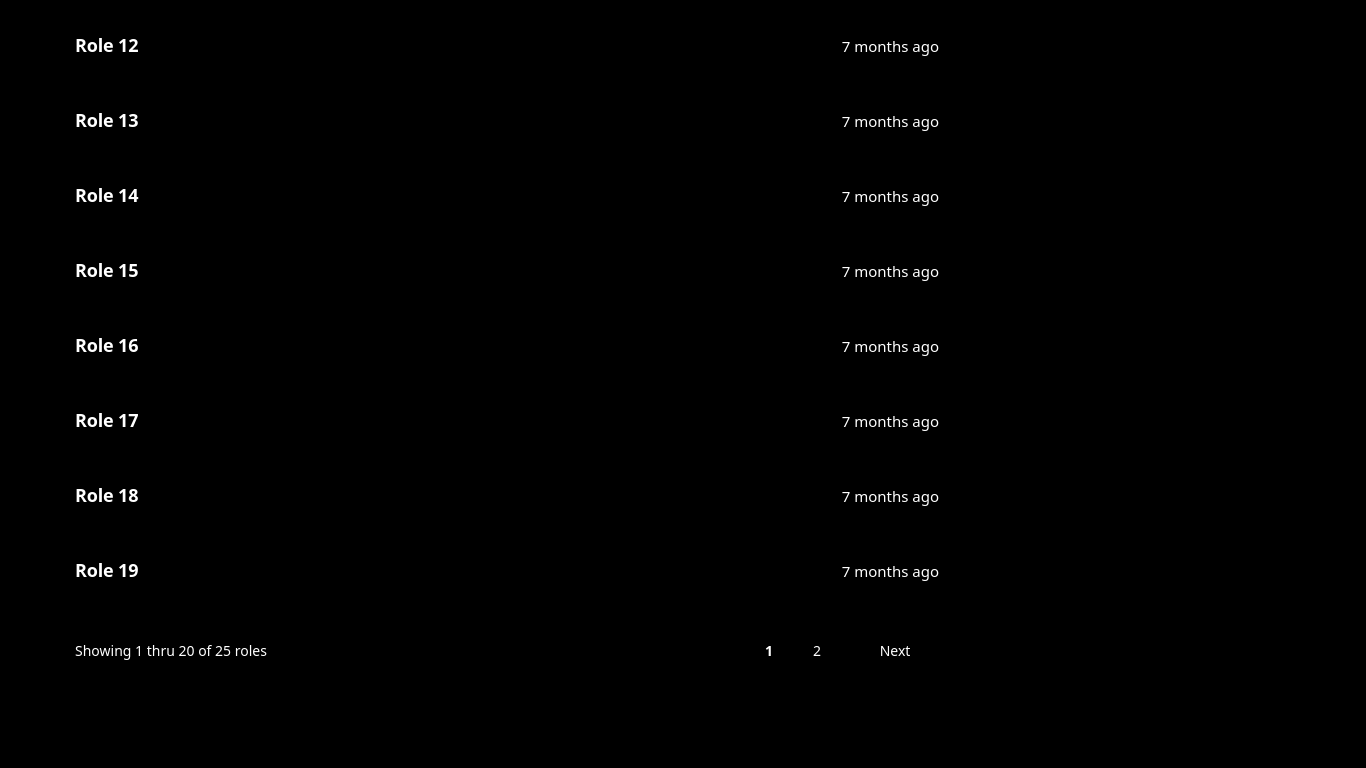
Test case: once the board is in memory › pages without a request, landing on the results heading
The image size is (1366, 768).
(page scrolled)
Click the link "2" at [817, 650], box [813, 641, 821, 660]
(page scrolled)
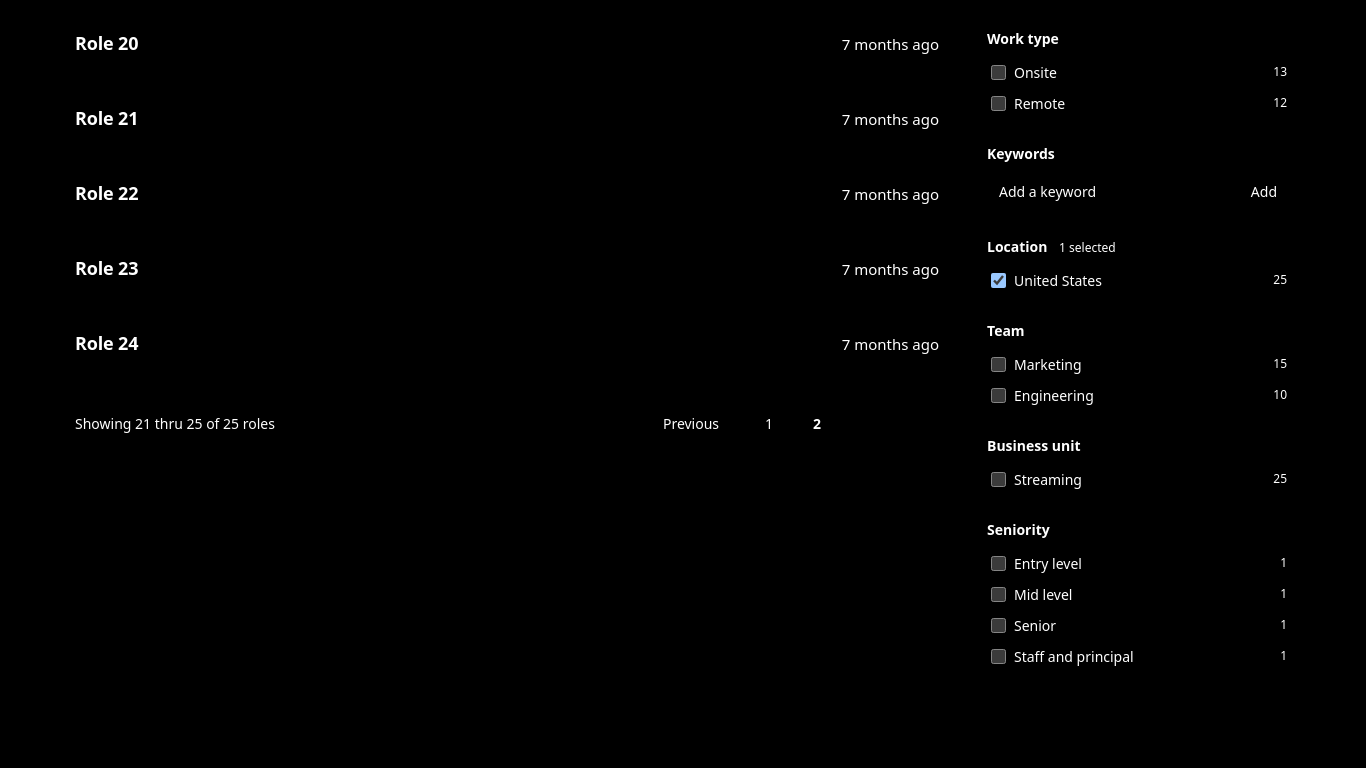
Expected: the link "Role 20" is shown, [75, 31, 138, 55]
